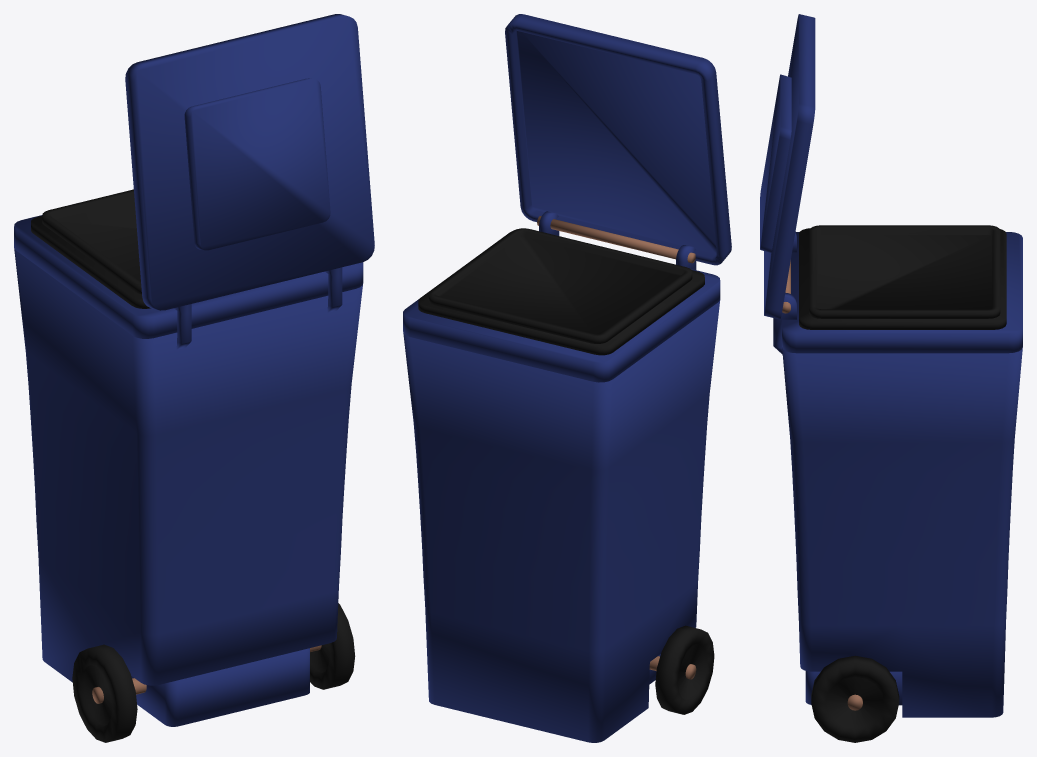
File: smietnikpapier.glb
The picture shows the model from 3 angles, left to right: view 1: azimuth 30°, elevation 25°; view 2: azimuth 150°, elevation 25°; view 3: azimuth 270°, elevation 25°; orthographic projection. The views are drawn at different scales.
Parts seen in each view (by area): view 1: Cube.029 -col.001; view 2: Cube.029 -col.001; view 3: Cube.029 -col.001.
Part boxes in pixels (box(x1,y1,x2,y2)): Cube.029 -col.001: box(14, 14, 374, 742); Cube.029 -col.001: box(403, 14, 731, 742); Cube.029 -col.001: box(760, 14, 1022, 742).
Size of the model in its own units: 2.64 by 7.41 by 2.79.
